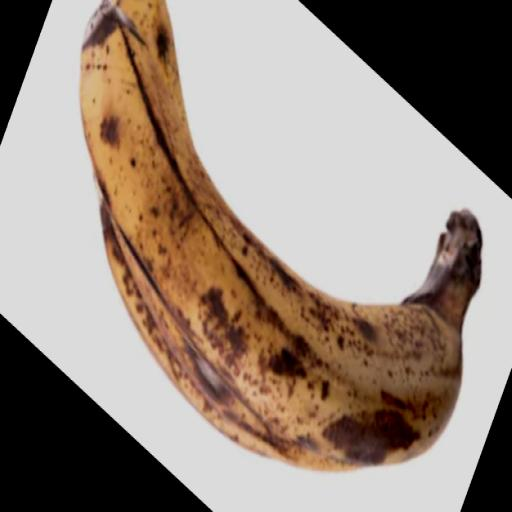banana-overripe: (61, 0, 497, 492)
